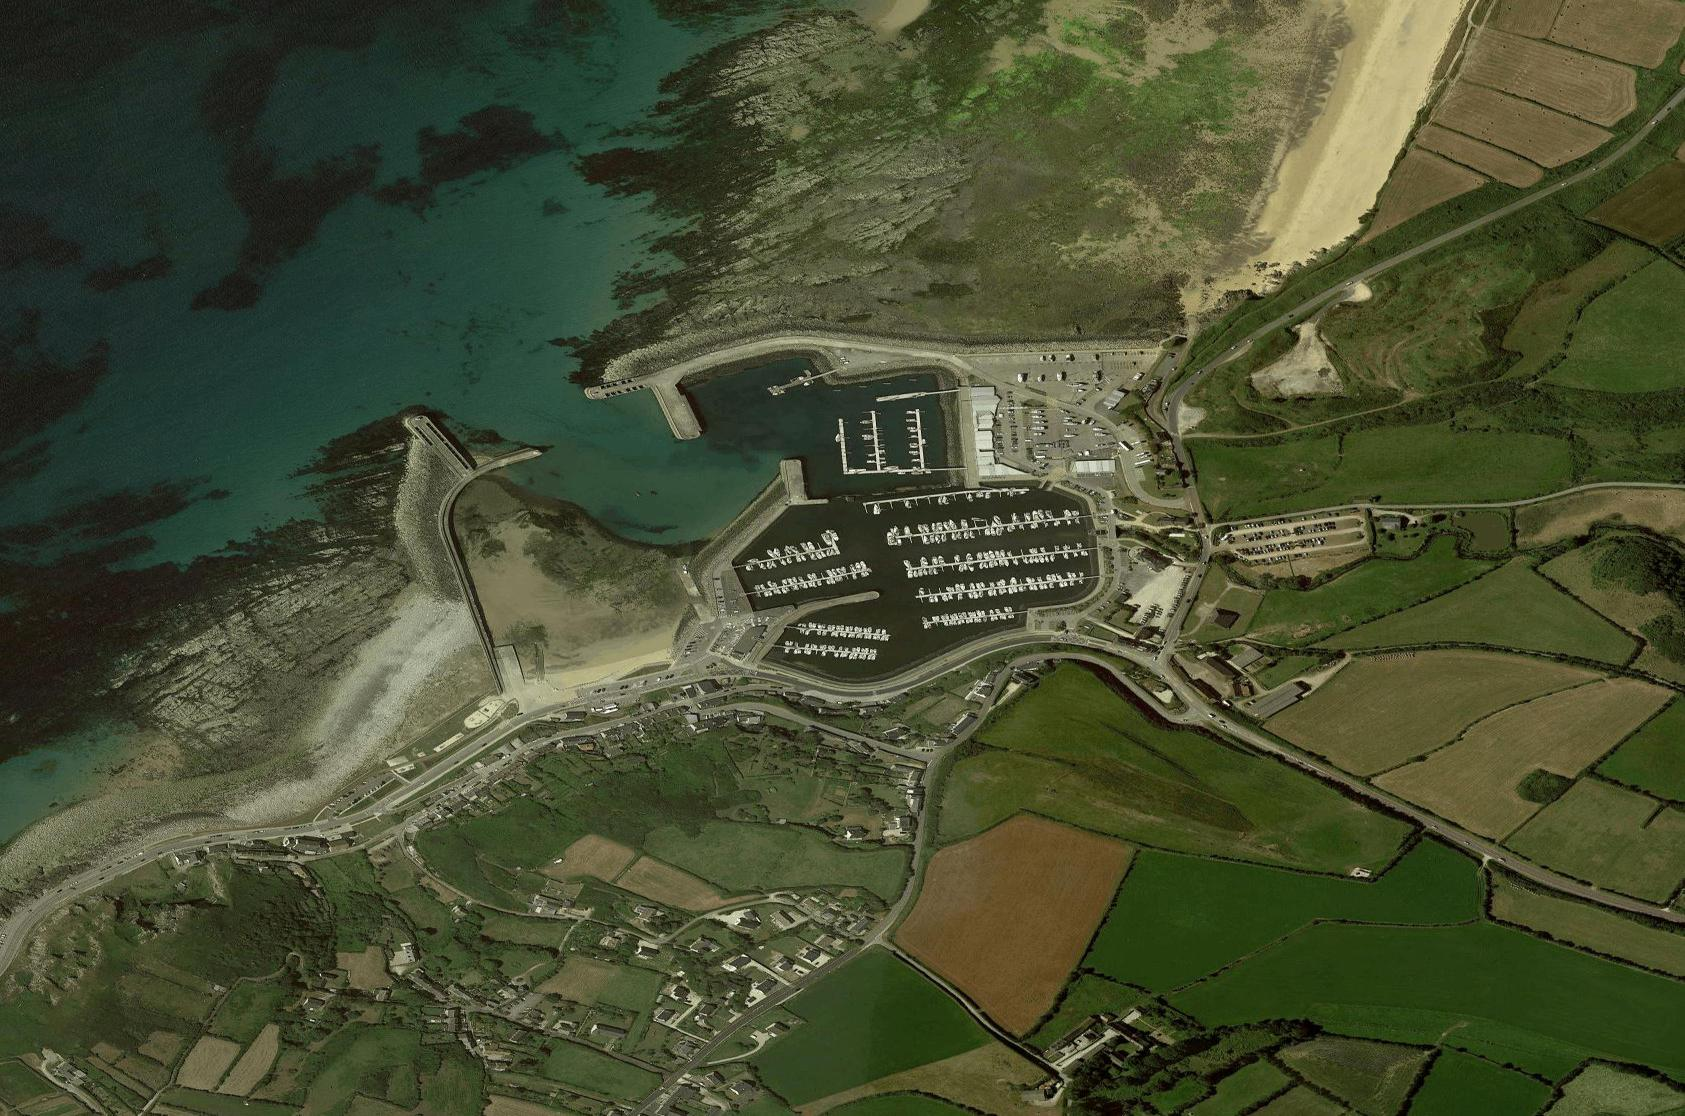harbor: (467, 314, 1131, 693)
